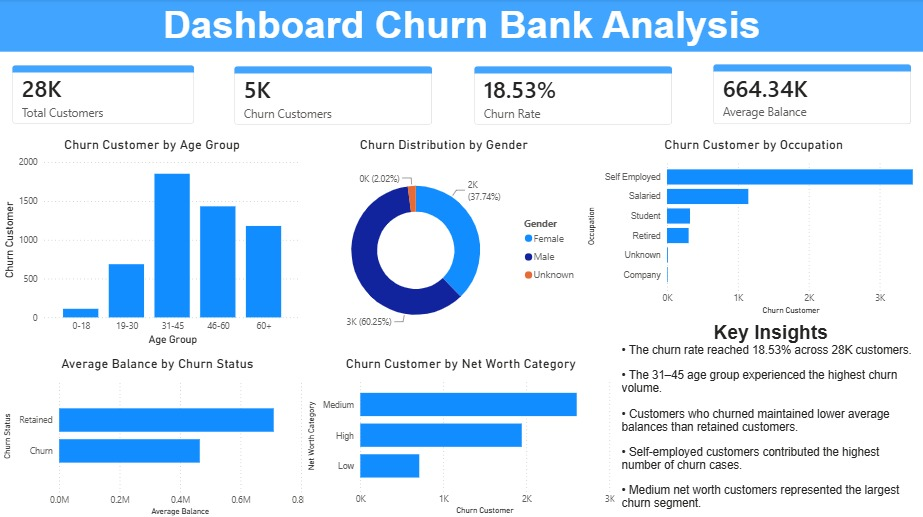

The page's visual inventory and layout, read from the dashboard file:
{"tool":"powerbi","page":{"name":"Page 1","canvas":[1280,720],"ordinal":0},"visuals":[{"type":"cardVisual","title":"Total Customers","fields":{"Data":["BankCustomerChurn.Total Customer"]},"box":[0,75.4,286.9,115.9],"z":0},{"type":"textbox","box":[0,0,1280,72.8],"z":1},{"type":"cardVisual","fields":{"Data":["BankCustomerChurn.Churn Customer"]},"box":[308.1,76.2,308.1,115.1],"z":2},{"type":"cardVisual","fields":{"Data":["BankCustomerChurn.Churn Rate"]},"box":[640,76.2,308.1,115.1],"z":4},{"type":"cardVisual","fields":{"Data":["Avg(BankCustomerChurn.current_balance)"]},"box":[971,73.6,309,117.7],"z":5},{"type":"clusteredColumnChart","fields":{"Category":["BankCustomerChurn.Age Group"],"Y":["BankCustomerChurn.Churn Customer"]},"box":[0,191.3,421.6,292.9],"z":6},{"type":"donutChart","title":"Churn Distribution by Gender","fields":{"Y":["BankCustomerChurn.Churn Customer"],"Category":["BankCustomerChurn.gender"]},"box":[421.6,191.3,387.7,292.9],"z":7},{"type":"clusteredBarChart","title":"Churn Customer by Occupation","fields":{"Category":["BankCustomerChurn.Occupation Label"],"Y":["BankCustomerChurn.Churn Customer"]},"box":[809.3,191.3,470.7,250.6],"z":8},{"type":"clusteredBarChart","fields":{"Y":["Avg(BankCustomerChurn.current_balance)"],"Category":["BankCustomerChurn.Churn Status"]},"box":[0,494,436,226],"z":9},{"type":"clusteredBarChart","fields":{"Y":["BankCustomerChurn.Churn Customer"],"Category":["BankCustomerChurn.Net Worth Category"]},"box":[421.6,494.4,435.1,225.2],"z":10},{"type":"textbox","box":[856.7,441.9,423.3,277.7],"z":11}]}

Visuals, with their boxes in screenshot pixels (x1, y1, x2, y2), scaled from the page's 1280x720 canvas onto the 923x517 screenshot:
"Total Customers" cardVisual: x1=0, y1=54, x2=207, y2=137
textbox: x1=0, y1=0, x2=922, y2=52
cardVisual - BankCustomerChurn.Churn Customer: x1=222, y1=55, x2=444, y2=137
cardVisual - BankCustomerChurn.Churn Rate: x1=462, y1=55, x2=684, y2=137
cardVisual - Avg(BankCustomerChurn.current_balance): x1=700, y1=53, x2=922, y2=137
clusteredColumnChart - BankCustomerChurn.Age Group x BankCustomerChurn.Churn Customer: x1=0, y1=137, x2=304, y2=348
"Churn Distribution by Gender" donutChart: x1=304, y1=137, x2=584, y2=348
"Churn Customer by Occupation" clusteredBarChart: x1=584, y1=137, x2=922, y2=317
clusteredBarChart - Avg(BankCustomerChurn.current_balance) x BankCustomerChurn.Churn Status: x1=0, y1=355, x2=314, y2=516
clusteredBarChart - BankCustomerChurn.Churn Customer x BankCustomerChurn.Net Worth Category: x1=304, y1=355, x2=618, y2=516
textbox: x1=618, y1=317, x2=922, y2=516
